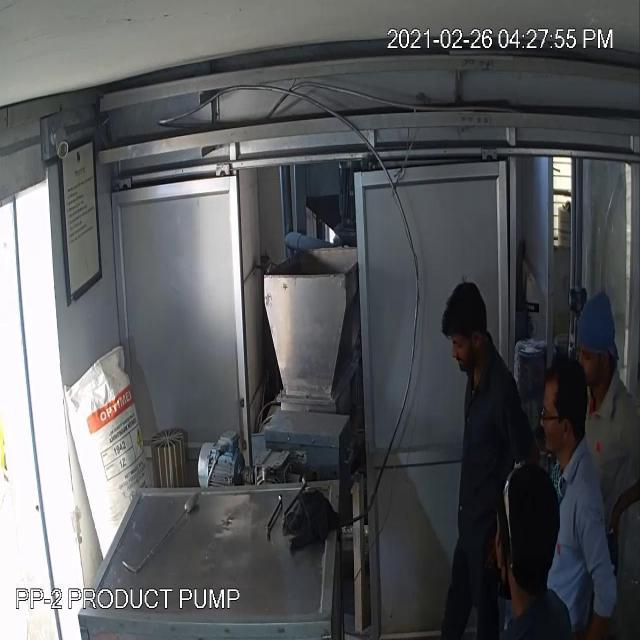no-helmet: (572, 290, 626, 378), (536, 359, 589, 433), (439, 278, 491, 345)
